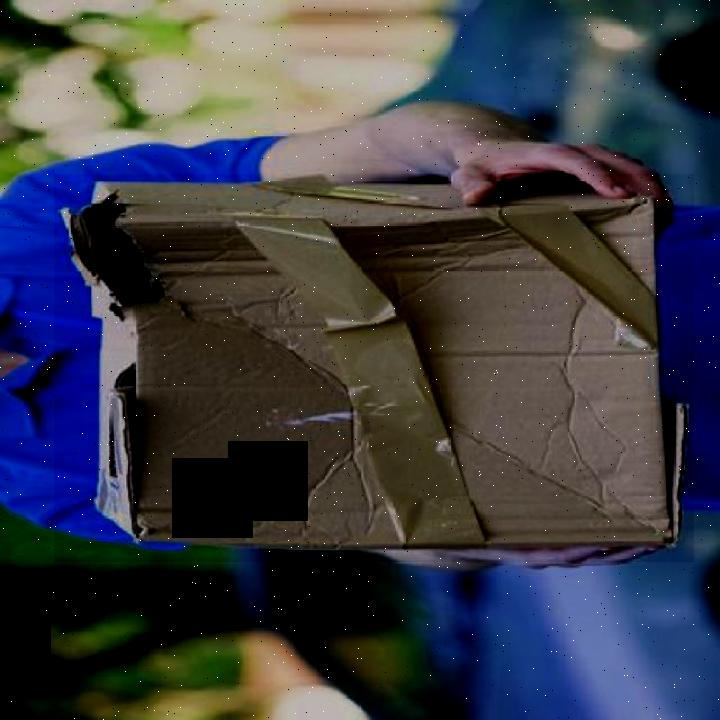box: (54, 174, 694, 562)
